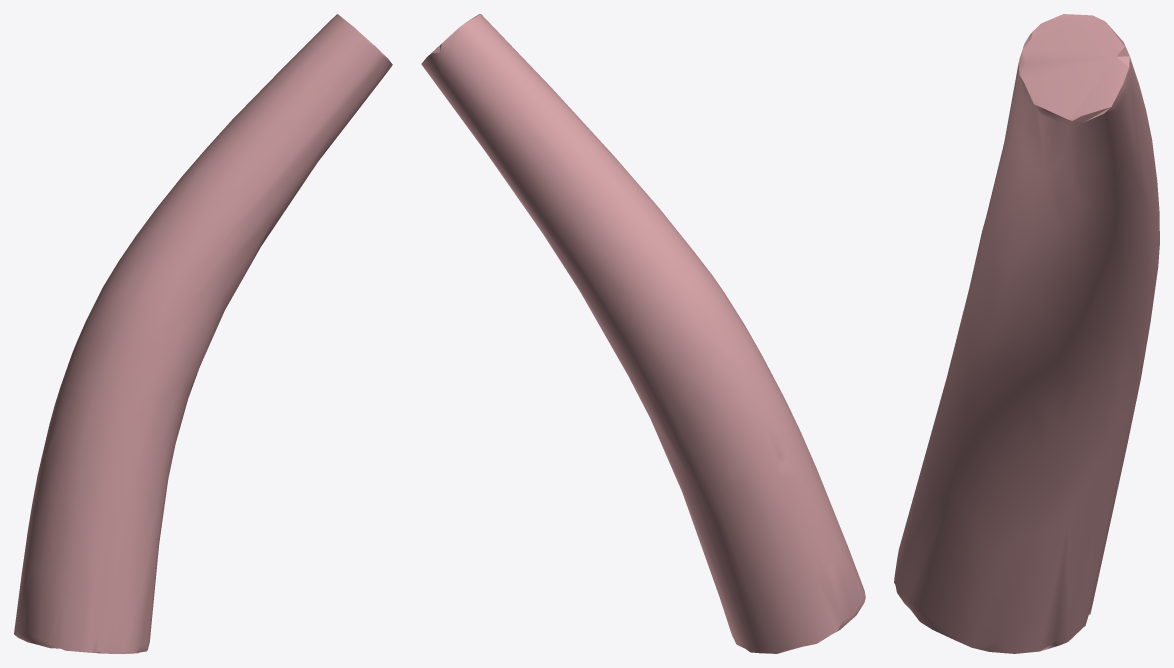
File: fma68216_fj6576.glb
3 renders of one model, left to right at view 1: azimuth 30°, elevation 25°; view 2: azimuth 150°, elevation 25°; view 3: azimuth 270°, elevation 25°, orthographic. The views are drawn at different scales.
Visible parts, largest first — view 1: FMA68216_FJ6576; view 2: FMA68216_FJ6576; view 3: FMA68216_FJ6576.
Boxes of the visible parts, x1,y1,x2,y2 form: FMA68216_FJ6576: [14, 14, 392, 653]; FMA68216_FJ6576: [421, 14, 865, 653]; FMA68216_FJ6576: [894, 14, 1159, 653].
Bounding box in the file's own units: 0.0147 × 0.0199 × 0.00591.
